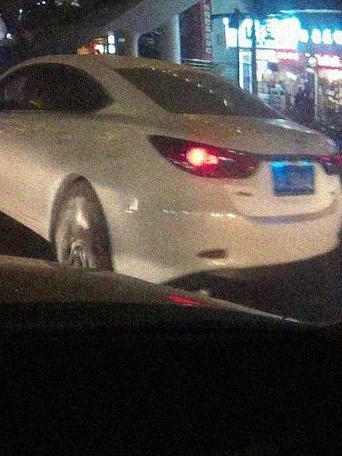L_light: (147, 132, 259, 179)
R_light: (319, 151, 342, 176)
T_light: (174, 72, 199, 76)
night-left: (108, 58, 342, 285)
